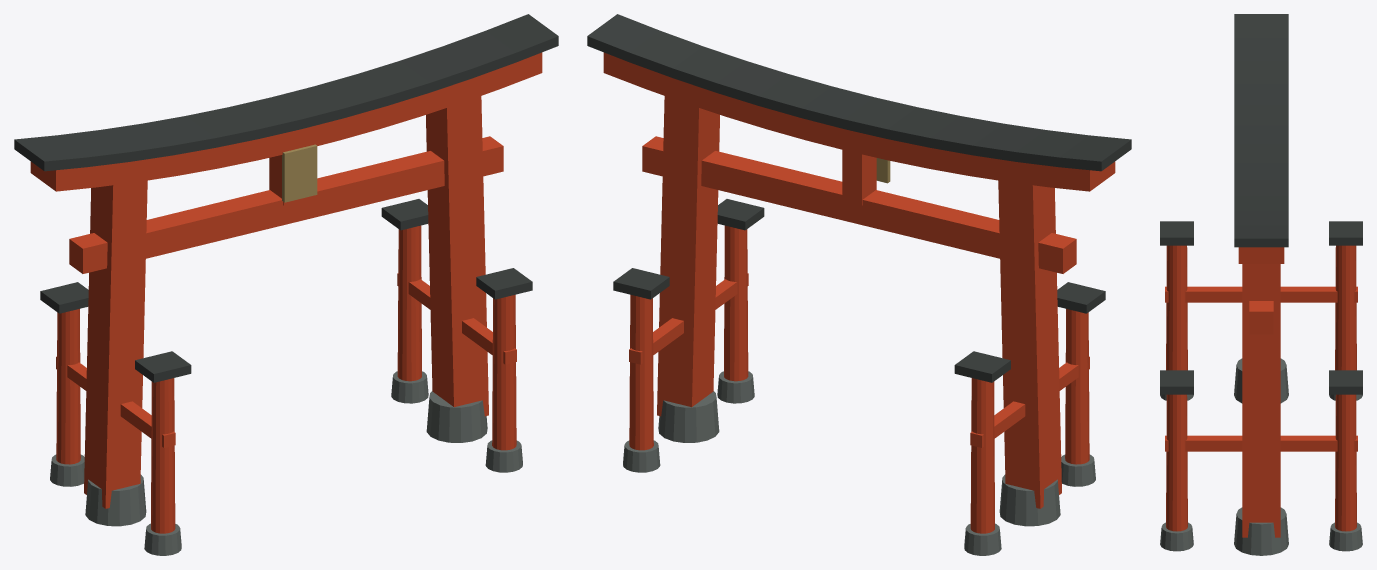
Rendered from torii-small.glb.
3 renders of one model, left to right at view 1: azimuth 30°, elevation 25°; view 2: azimuth 150°, elevation 25°; view 3: azimuth 270°, elevation 25°, orthographic. The views are drawn at different scales.
Parts seen in each view (by area): view 1: torii-small; view 2: torii-small; view 3: torii-small.
Part boxes in pixels (x1,y1,x2,y2): torii-small: (14,14,558,555); torii-small: (587,14,1131,555); torii-small: (1160,14,1362,555).
Bounding box in the file's own units: 4.95 × 3.53 × 1.89.
